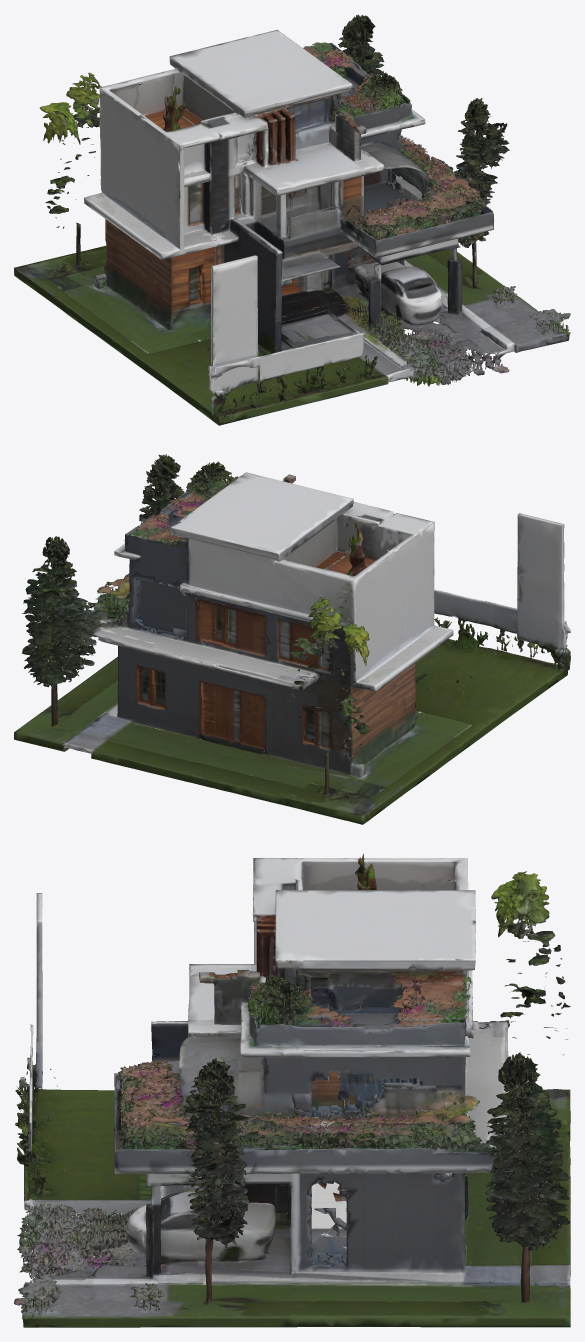
Rendered from house.glb.
3 views of the same model, one above another, from view 1: azimuth 30°, elevation 25°; view 2: azimuth 150°, elevation 25°; view 3: azimuth 270°, elevation 25° (orthographic). The views are drawn at different scales.
Bounding box in the file's own units: 1.98 × 1.32 × 1.98.
1 material, 1 textured.
